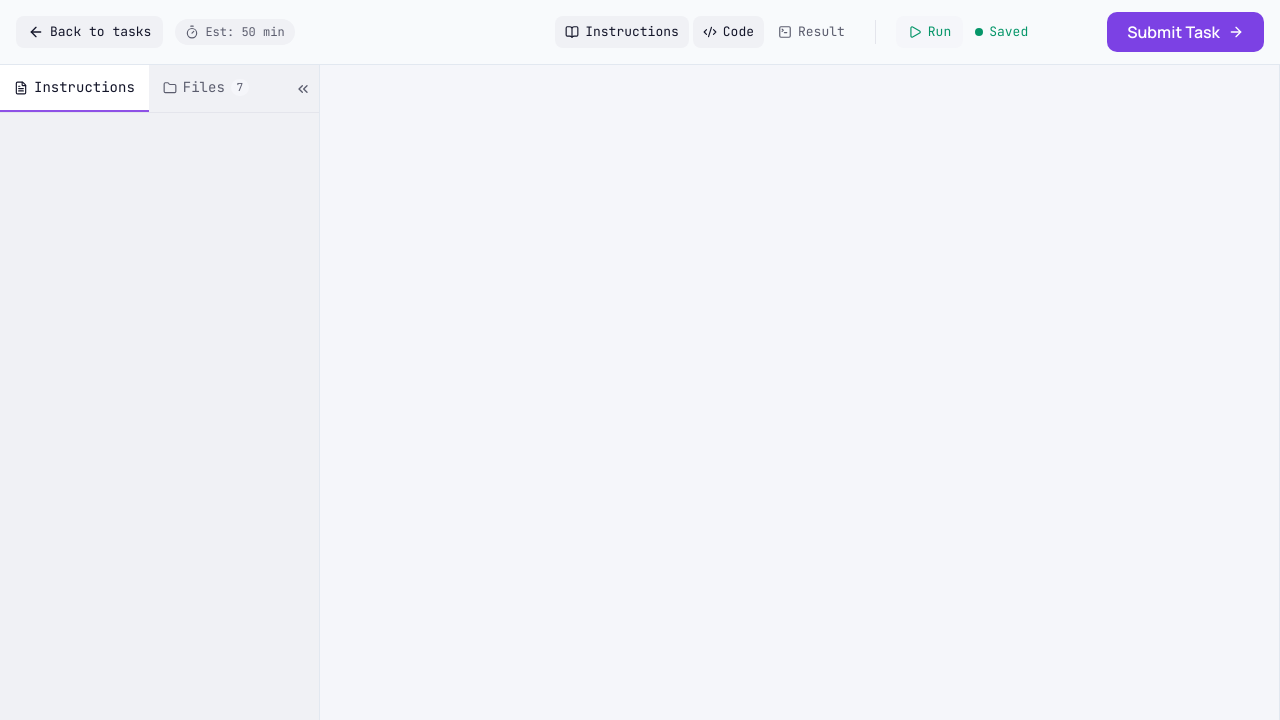
Test: TaskWorkspace › submits: shows the toast and the Submitted pill, and the button reads Resubmit
Click the button "Submit Task": (1186, 32) [1107,12,1264,52]
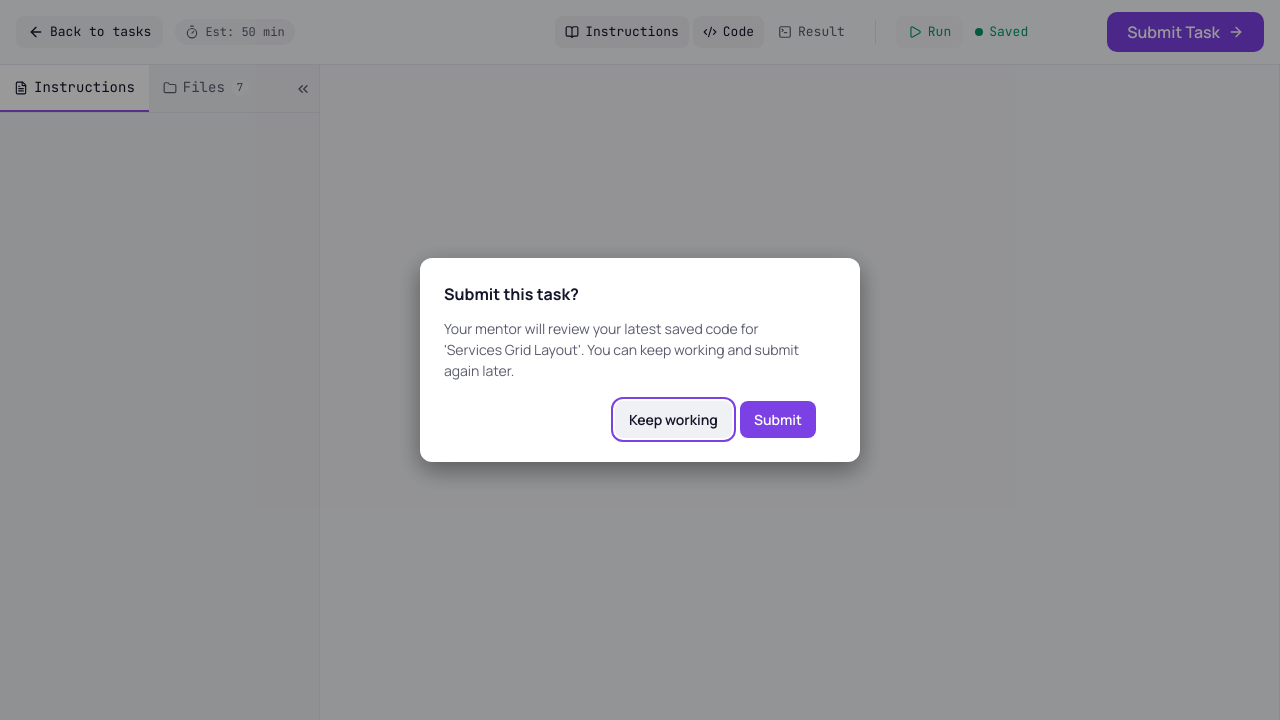
Click the button "Submit": (778, 420) [740,401,816,438]
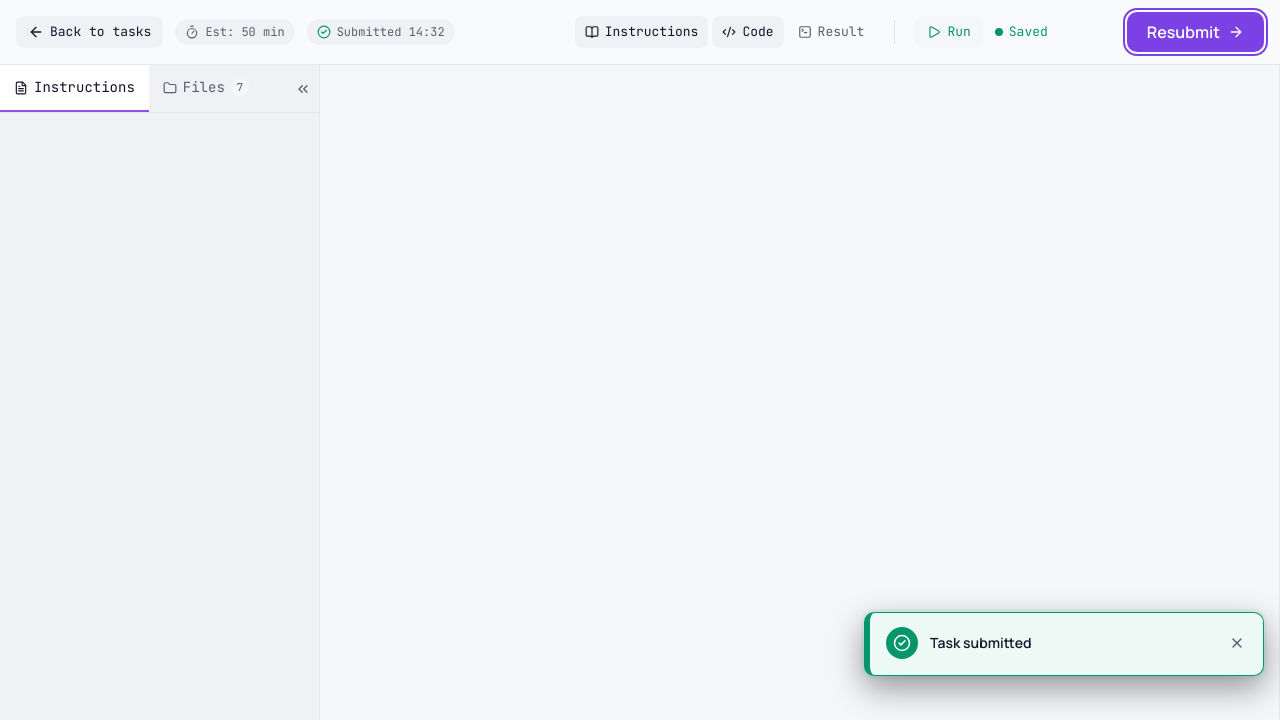
Expected: the button "Resubmit" is enabled, [1127,12,1264,52]
Result: the text "Task submitted" is shown at [930,633,1032,652]
Result: the text "Submitted 14:32" is shown at [307,19,455,45]
